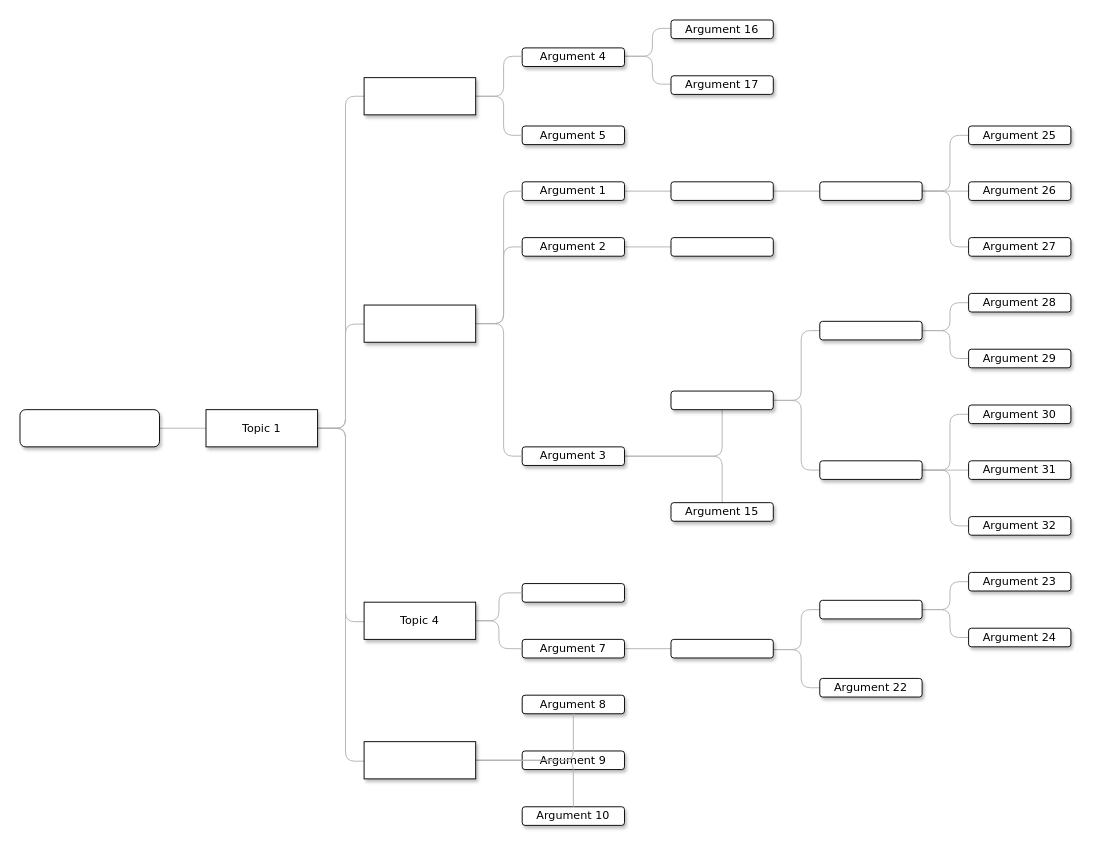
The diagram is 1093 pixels wide and 848 high, and some of its shapes have lost their labels. Each missing label, with the centre of its shape:
Argument 11: [722,192]
Argument 12: [871,192]
Argument 13: [722,248]
Argument 14: [722,401]
Argument 18: [722,649]
Argument 19: [871,331]
Argument 20: [871,471]
Argument 21: [871,610]
Argument 6: [574,594]
Main topic: [90,429]
Topic 2: [420,97]
Topic 3: [420,324]
Topic 5: [420,761]
